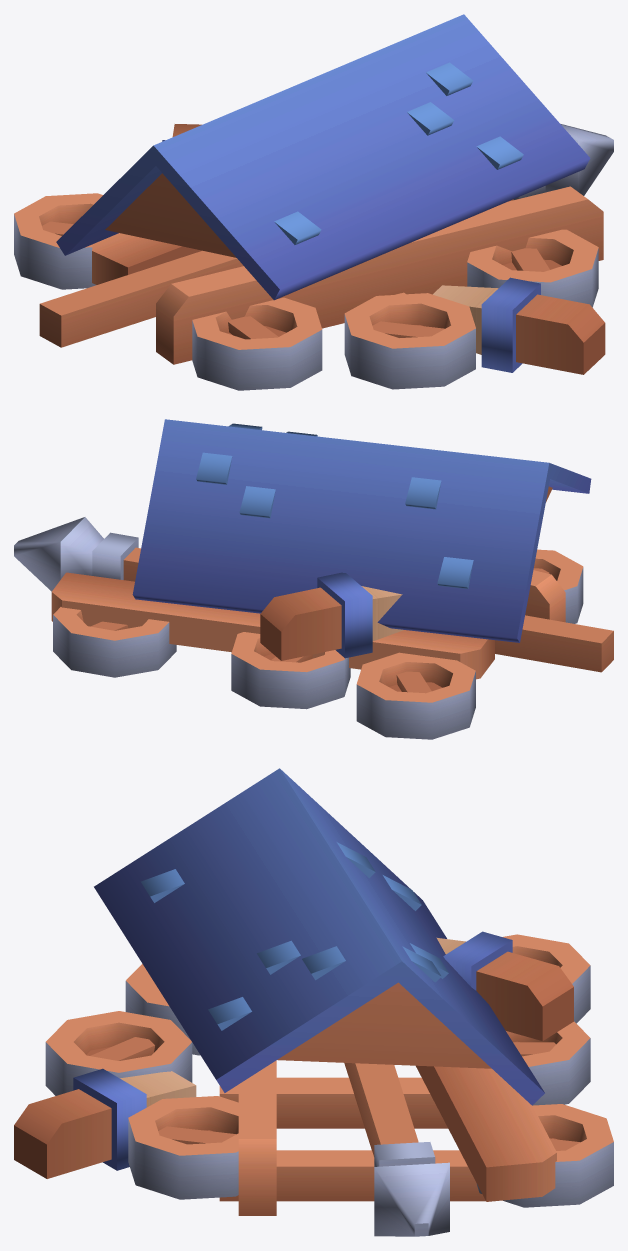
File: siege-ram-demolished.glb
3 views of the same model, one above another, from view 1: azimuth 30°, elevation 25°; view 2: azimuth 150°, elevation 25°; view 3: azimuth 270°, elevation 25° (orthographic). The views are drawn at different scales.
Visible parts, largest first — view 1: siege-ram-demolished; view 2: siege-ram-demolished; view 3: siege-ram-demolished.
Part boxes in pixels (x1,y1,x2,y2): siege-ram-demolished: [14, 14, 613, 390]; siege-ram-demolished: [14, 419, 613, 739]; siege-ram-demolished: [14, 768, 613, 1236].
Bounding box in the file's own units: 2.08 × 0.7232 × 1.65.
Materials: 1 (1 with a texture image).
